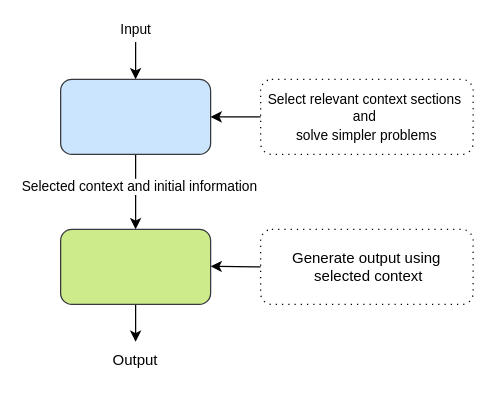
Some shapes in this 495 by 401 pixel diagram are drawn without their labels. Here are the shapes that lost their labels. From the top down, the box of each, then its label:
(59, 78, 211, 154): Model first Step
(59, 228, 211, 304): Model Second Step
